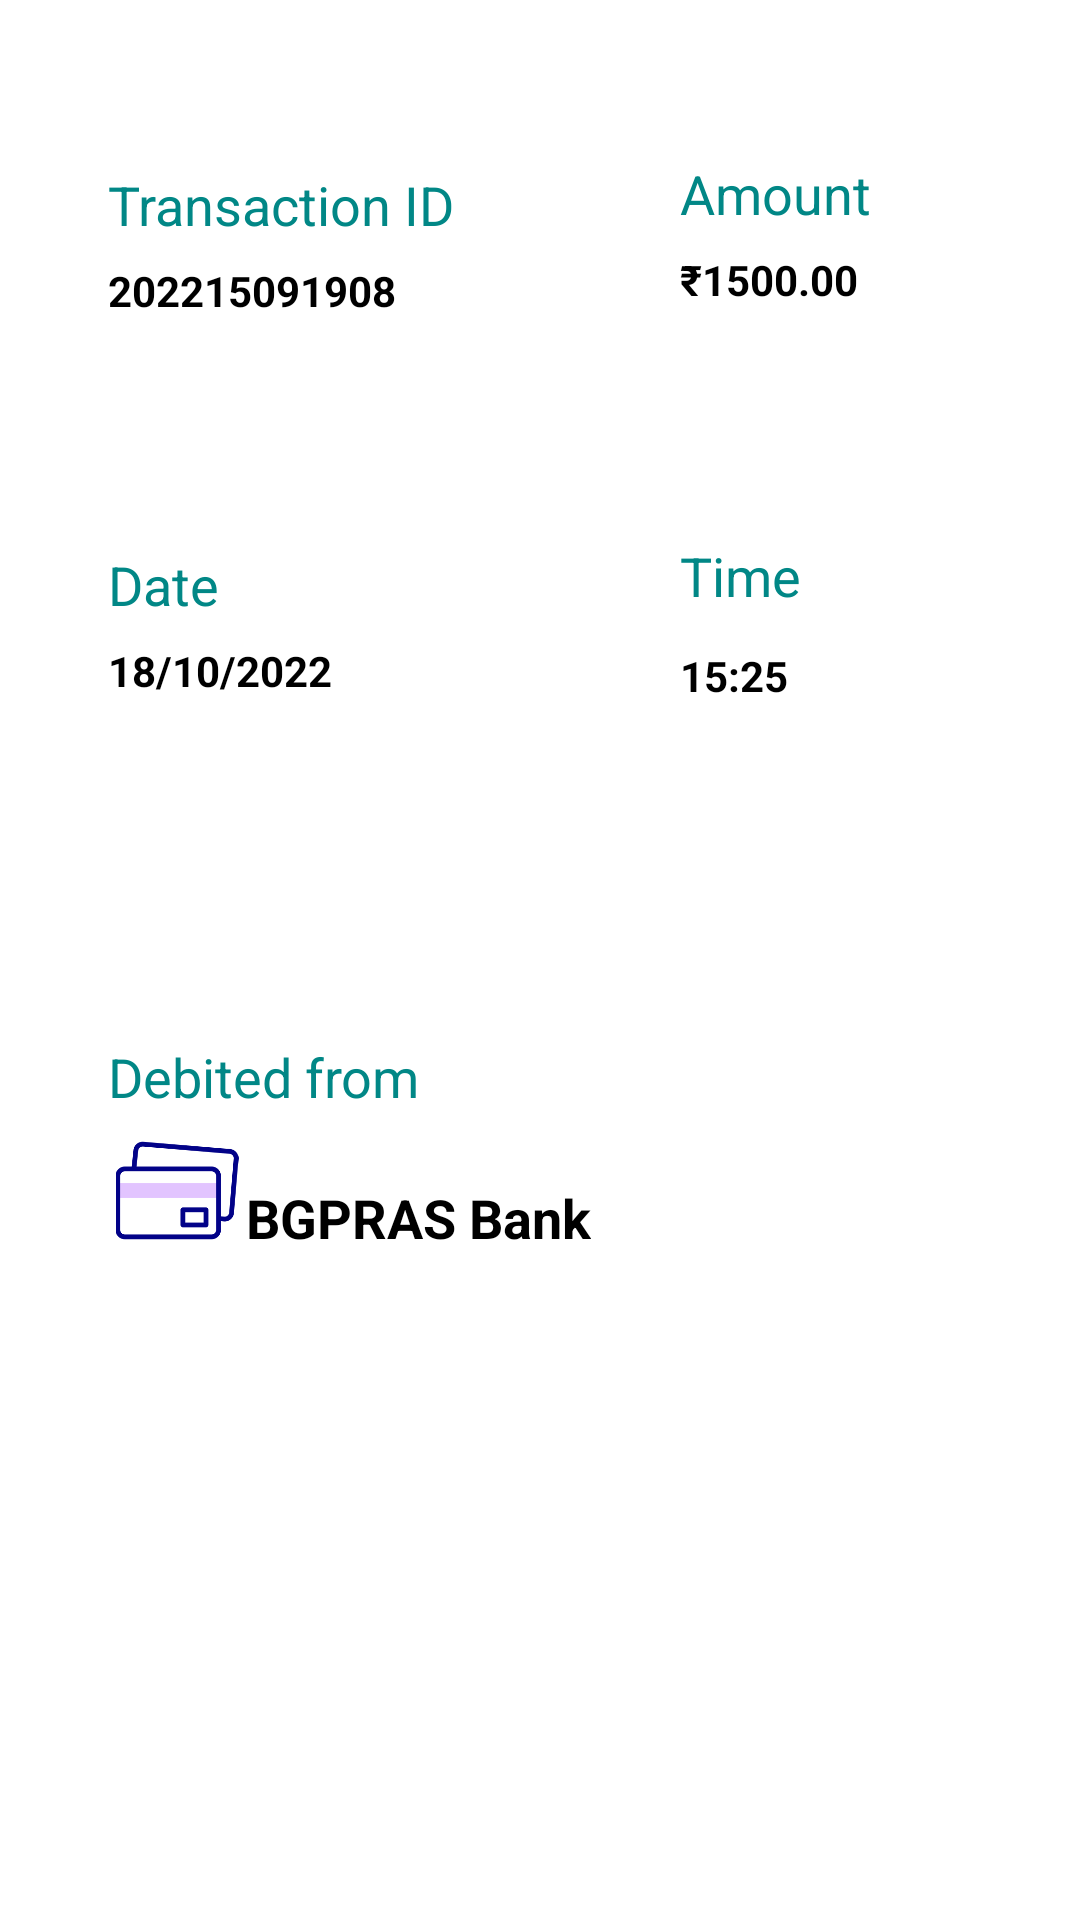

Icon click points for this 1080px×1920px phone screenshot, format point (x, y):
card: point (177, 1190)
